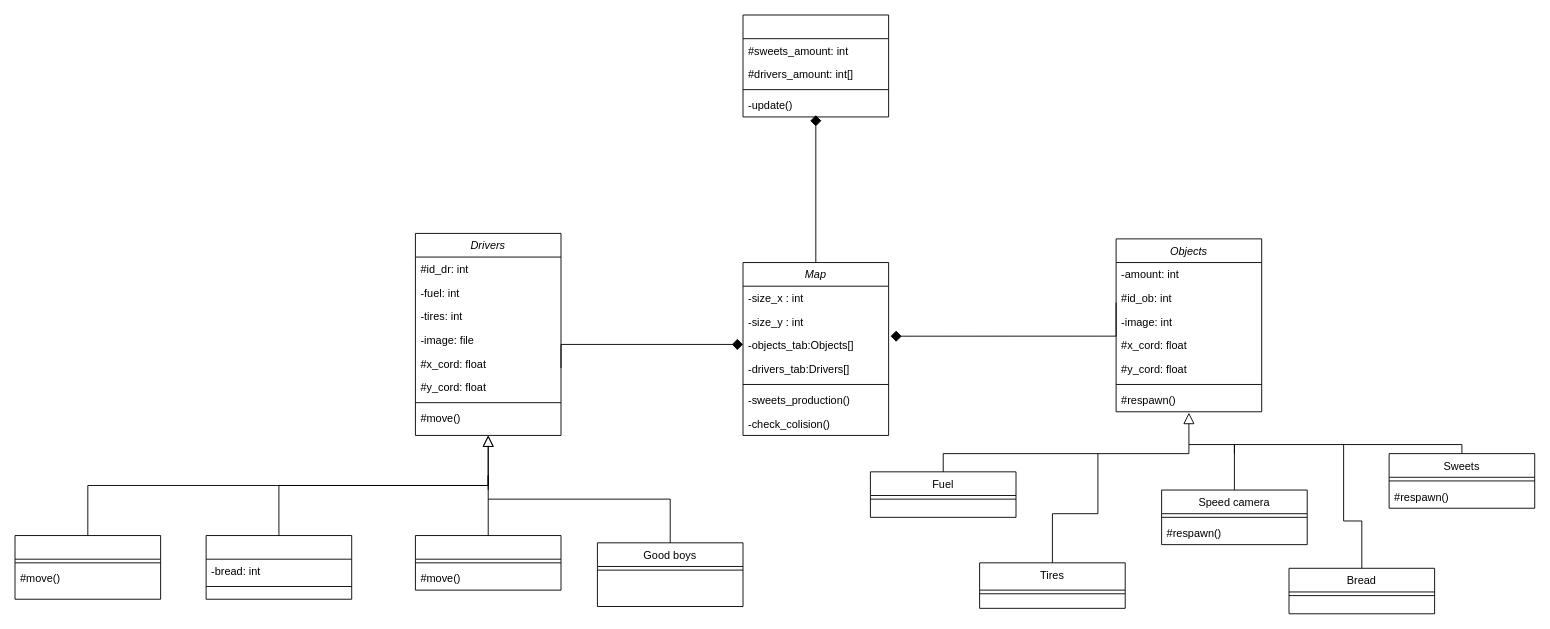
The diagram is 1550 pixels wide and 629 high, and some of its shapes have lost their labels. The shapes that lost their labels are listed below. From the top down, each one's box as (x1, y1, x2, y2) in pixels, then its label:
(742, 14, 889, 117): Simulation
(14, 535, 161, 599): Driifter
(205, 535, 352, 599): Common driver
(415, 535, 561, 590): Police
